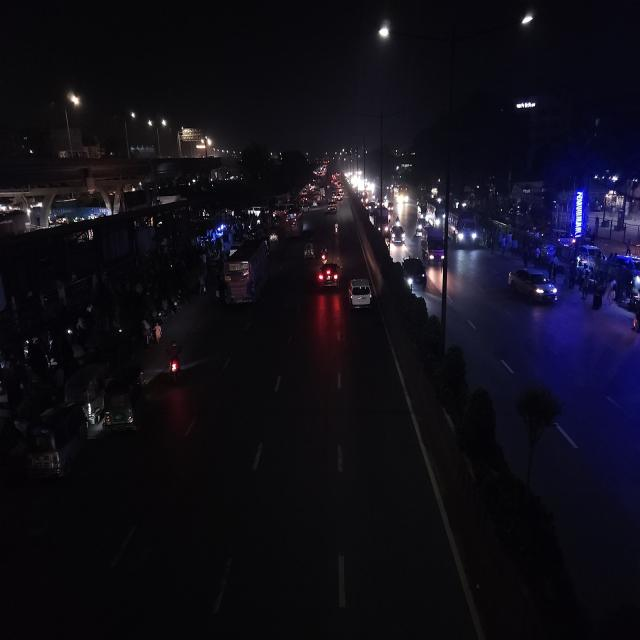bus: (221, 234, 271, 313), (448, 207, 478, 251), (284, 212, 303, 239), (422, 200, 438, 225)
car: (505, 263, 559, 308), (399, 254, 428, 297), (347, 272, 373, 317), (316, 258, 342, 292), (389, 222, 407, 246)
cng: (22, 400, 88, 490), (102, 364, 148, 437), (303, 239, 315, 262)
motorcycle: (164, 340, 184, 386), (332, 217, 340, 237), (320, 244, 328, 262)
pickup_van: (327, 196, 338, 214)
truck: (420, 225, 446, 268)
